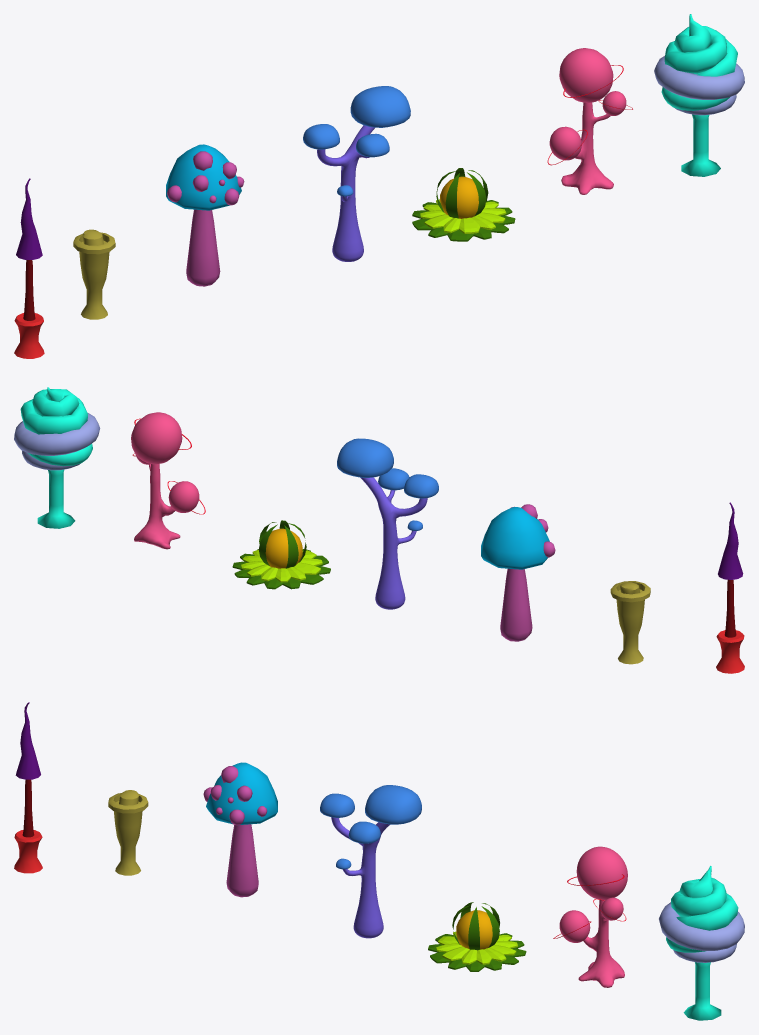
The model's file is mushroom_plants.fbx.
The picture shows the model from 3 angles, top to bottom: view 1: azimuth 30°, elevation 25°; view 2: azimuth 150°, elevation 25°; view 3: azimuth 330°, elevation 25°; orthographic projection. The views are drawn at different scales.
Visible parts, largest first — view 1: plants, mushroom, mushroom.001, plants.001, plants.002, mushroom.002, plants.003; view 2: plants, mushroom, mushroom.001, plants.001, plants.002, mushroom.002, plants.003; view 3: plants, mushroom, mushroom.001, plants.001, plants.002, mushroom.002, plants.003.
Part boxes in pixels (x1,y1,x2,y2): plants: (654,14,744,176); mushroom: (303,86,410,261); mushroom.001: (166,144,244,286); plants.001: (547,48,632,194); plants.002: (412,168,515,241); mushroom.002: (14,178,44,358); plants.003: (73,229,115,319); plants: (14,387,100,528); mushroom: (337,438,438,609); mushroom.001: (481,504,555,641); plants.001: (131,412,205,549); plants.002: (232,520,330,589); mushroom.002: (716,502,744,673); plants.003: (610,581,650,664); plants: (659,866,744,1020); mushroom: (320,785,421,938); mushroom.001: (203,762,277,897); plants.001: (553,846,627,987); plants.002: (428,902,526,971); mushroom.002: (14,702,42,873); plants.003: (108,790,148,875).
Bounding box in the file's own units: 982 × 7886 × 1802.
